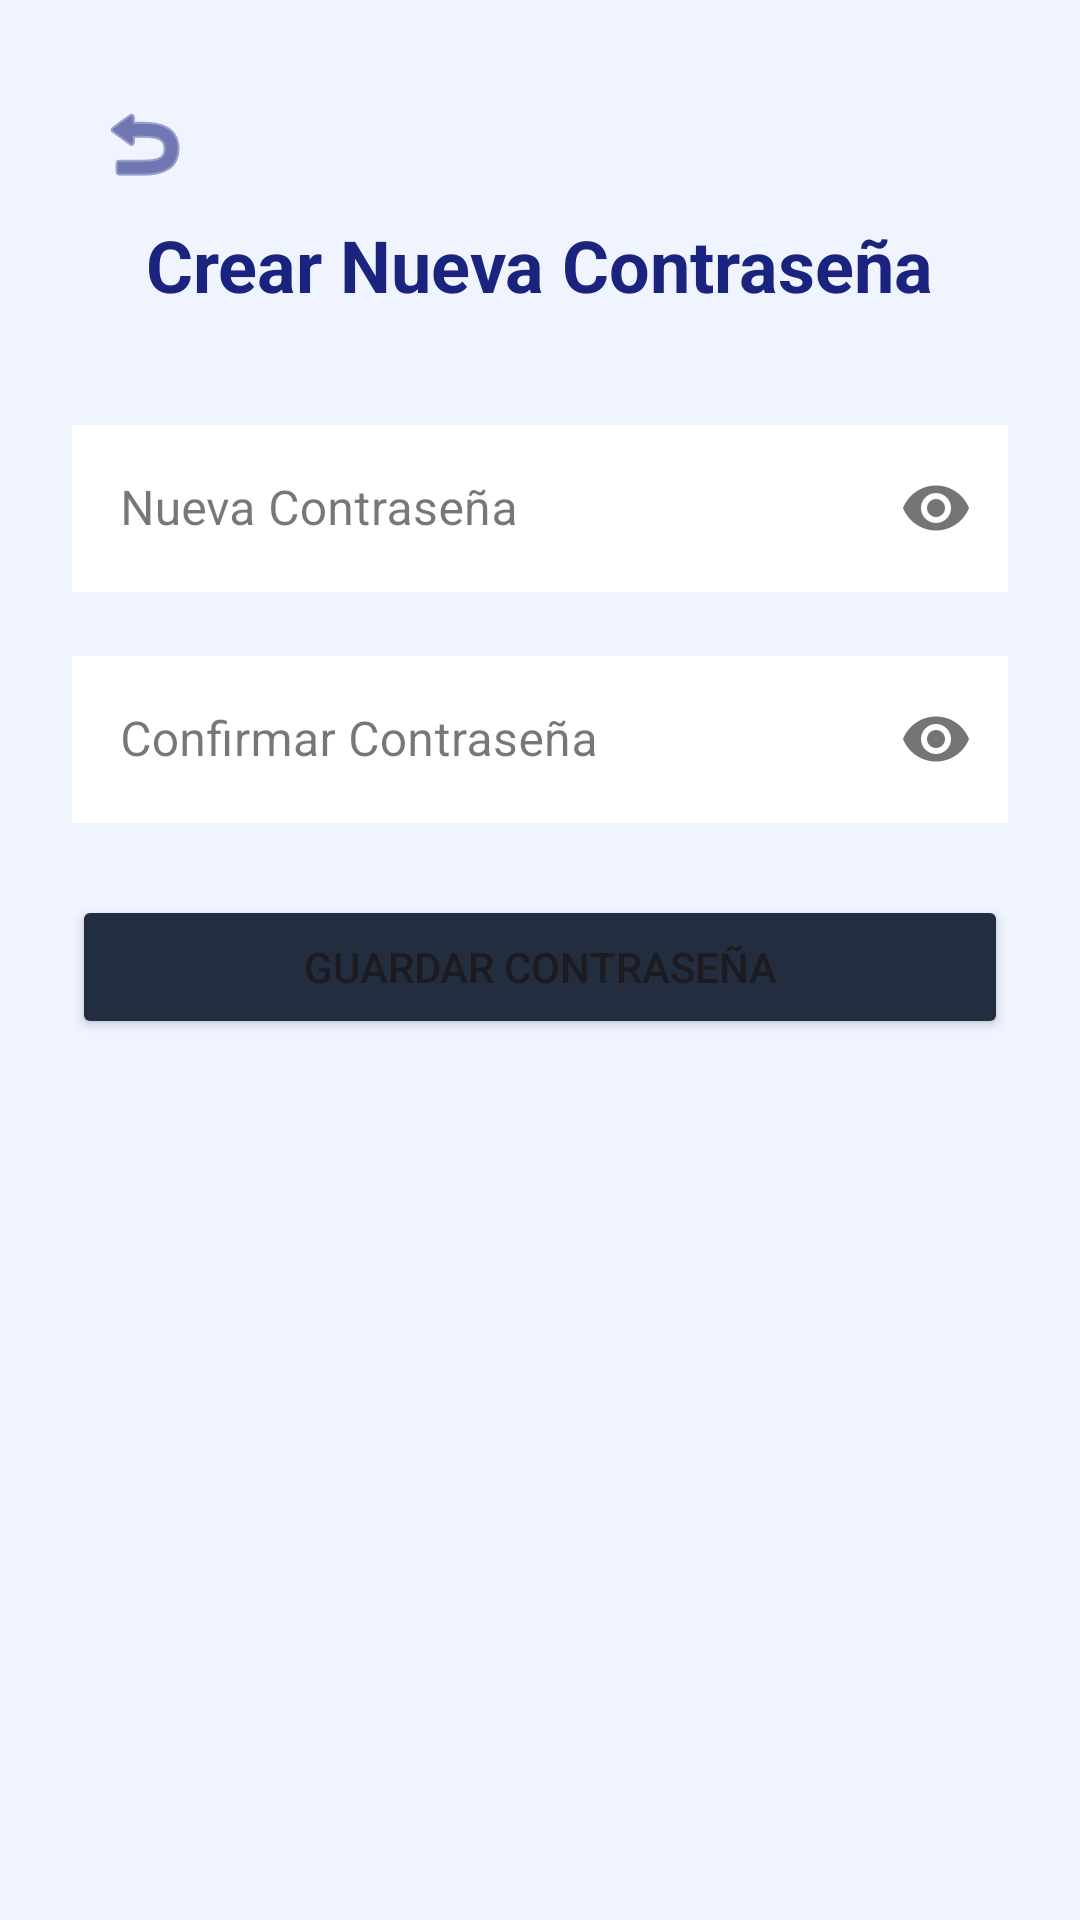

Icons on this 1080w x 1920h Android screen, each with its box as (x1, y1, x2, y2):
Volver: (111, 113, 180, 176)
